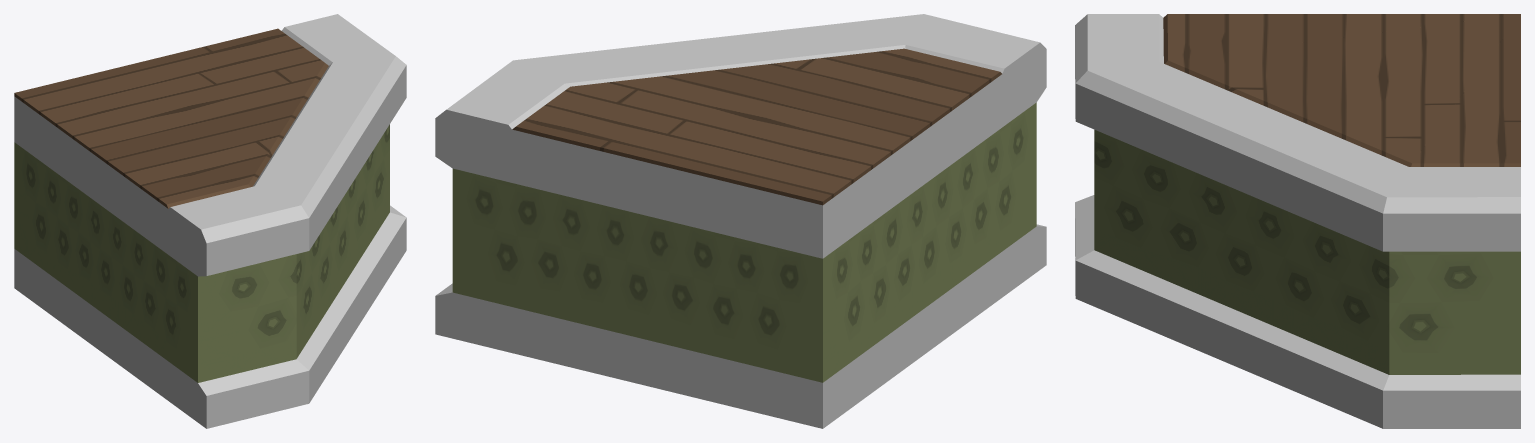
The model's file is SM_Prop_Platform_01_Corner_L_03.fbx.
The picture shows the model from 3 angles, left to right: view 1: azimuth 30°, elevation 25°; view 2: azimuth 150°, elevation 25°; view 3: azimuth 270°, elevation 25°; orthographic projection. The views are drawn at different scales.
Visible parts, largest first — view 1: SM_Prop_Platform_01_Corner_L_03; view 2: SM_Prop_Platform_01_Corner_L_03; view 3: SM_Prop_Platform_01_Corner_L_03.
Boxes of the visible parts, left/top/right/bottom form: SM_Prop_Platform_01_Corner_L_03: left=14, top=14, right=406, bottom=428; SM_Prop_Platform_01_Corner_L_03: left=435, top=14, right=1046, bottom=428; SM_Prop_Platform_01_Corner_L_03: left=1075, top=14, right=1520, bottom=428.
Bounding box in the file's own units: 178 × 100 × 178.
